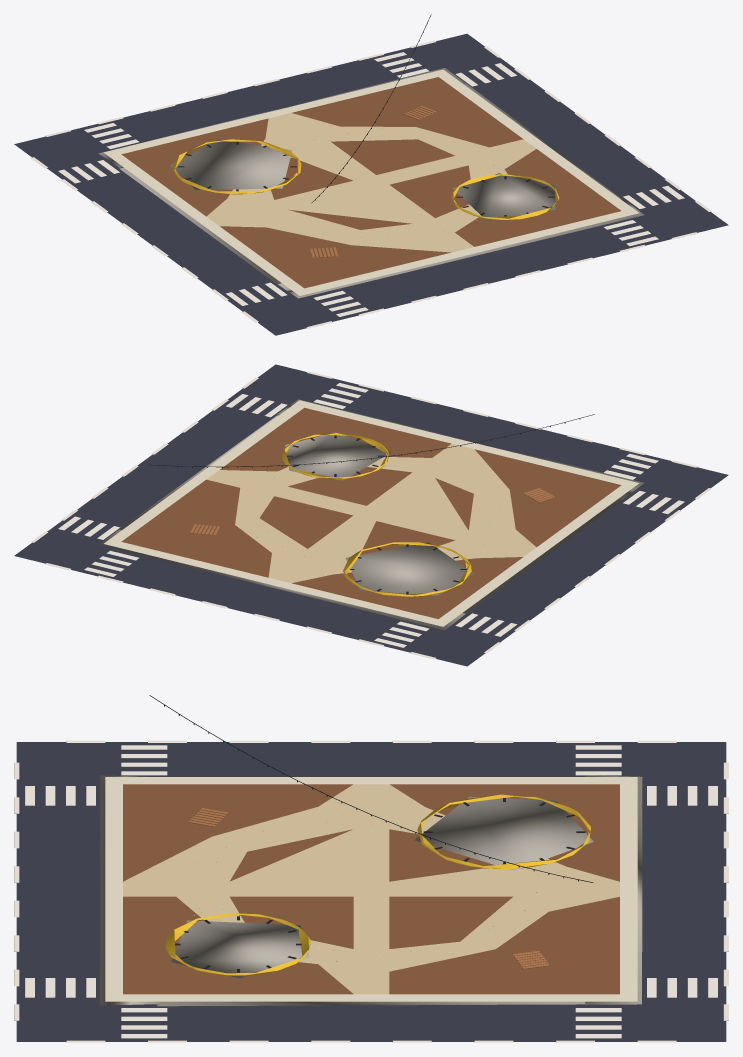
The model's file is tile_fair.glb.
3 renders of one model, top to bottom at view 1: azimuth 30°, elevation 25°; view 2: azimuth 150°, elevation 25°; view 3: azimuth 270°, elevation 25°, orthographic. The views are drawn at different scales.
Visible parts, largest first — view 1: tile_fair; view 2: tile_fair; view 3: tile_fair.
Part boxes in pixels (x1,y1,x2,y2): tile_fair: (14,14,728,335); tile_fair: (14,364,728,666); tile_fair: (14,695,728,1042).
Size of the model in its own units: 40.3 by 6.42 by 40.3.
Materials: 1 (1 with a texture image).
